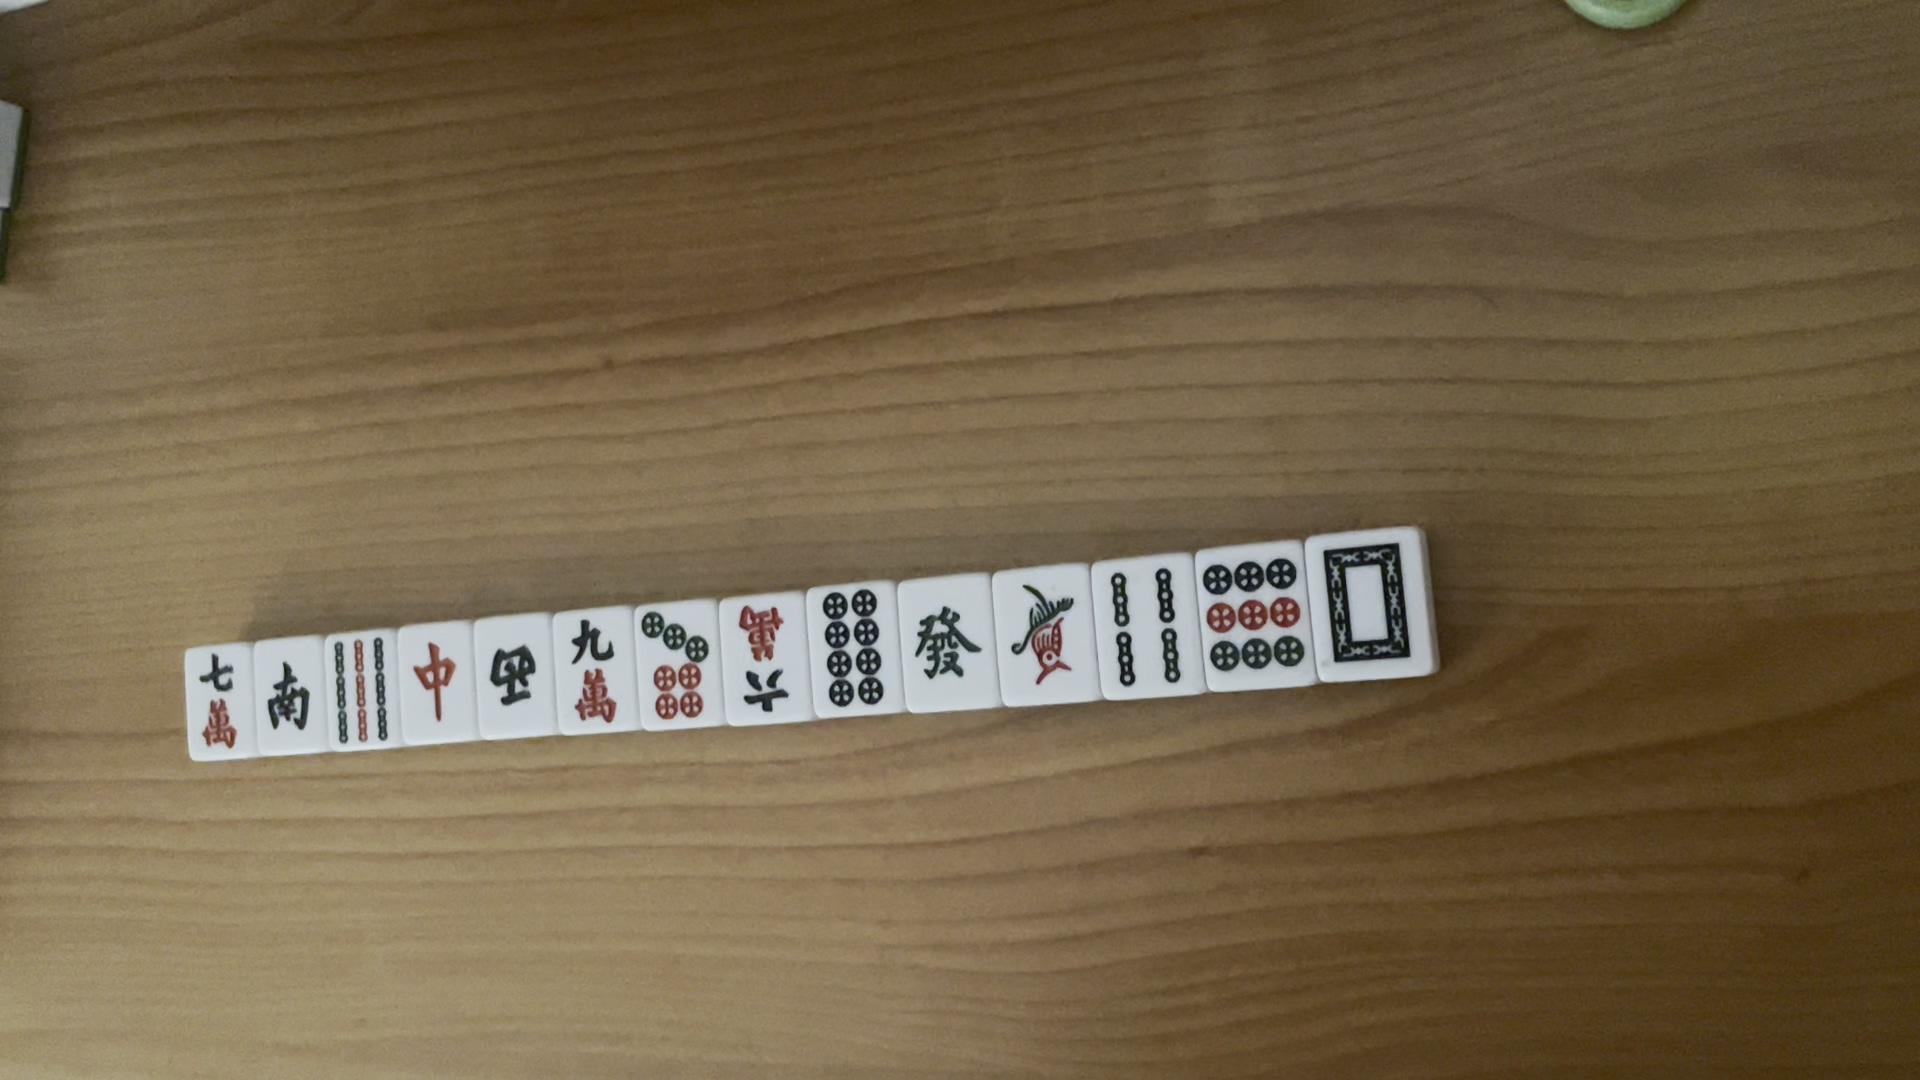b-1: (1009, 572, 1087, 689)
b-4: (1100, 562, 1186, 695)
b-9: (332, 633, 393, 747)
c-6: (729, 598, 796, 728)
c-7: (190, 650, 248, 759)
c-9: (567, 606, 619, 731)
d-7: (639, 606, 712, 722)
d-8: (818, 583, 891, 714)
d-9: (1199, 546, 1312, 682)
honors-green: (910, 602, 984, 686)
honors-red: (403, 634, 461, 734)
honors-south: (260, 663, 315, 731)
honors-west: (486, 630, 544, 722)
honors-white: (1318, 535, 1419, 676)
